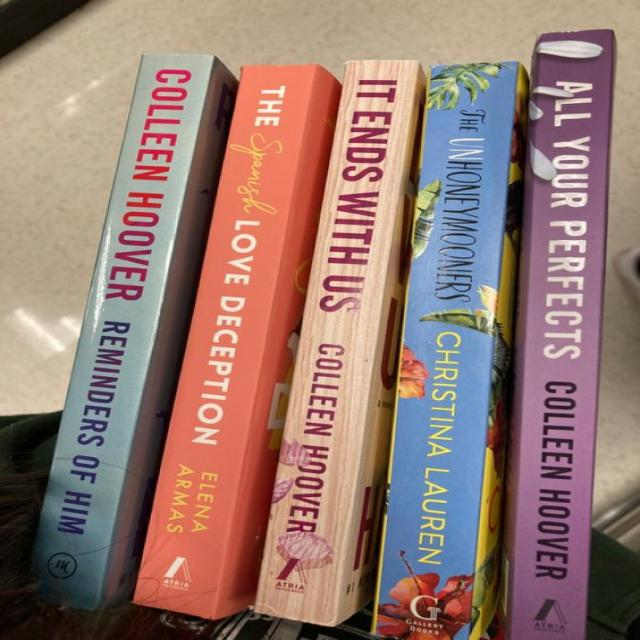book: (134, 65, 339, 619), (36, 54, 236, 609), (255, 60, 424, 624), (373, 62, 516, 639), (500, 29, 615, 639)
